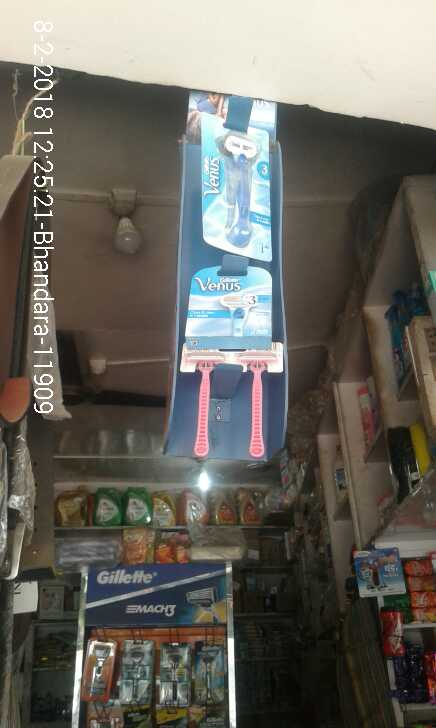beauty: (187, 122, 276, 259), (180, 260, 272, 356), (157, 640, 195, 709), (116, 641, 154, 706), (80, 640, 115, 705), (195, 645, 224, 708)
